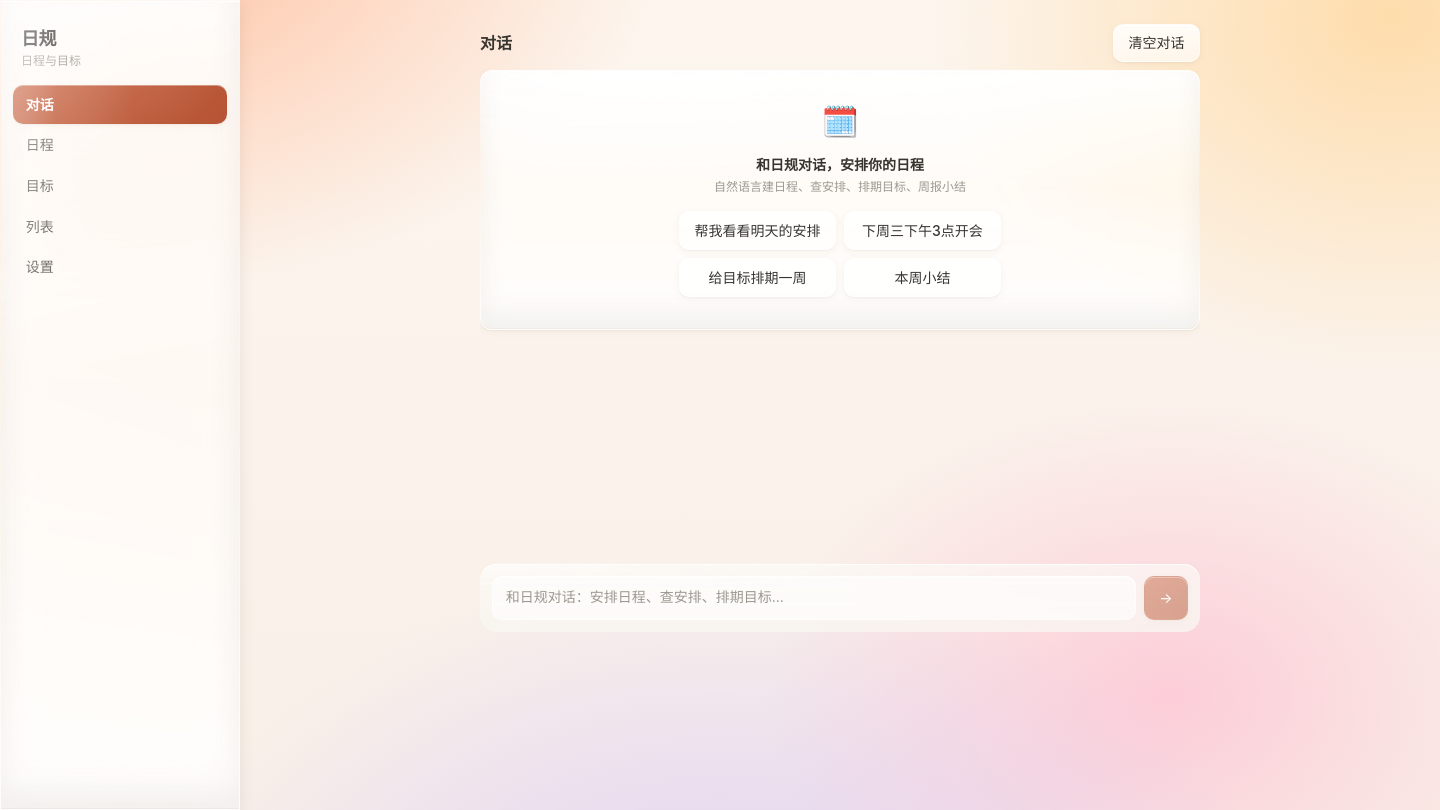
Scenario: App shell › 点击设置导航到设置页
Click the link "设置" at [40, 267], box [26,258,54,275]
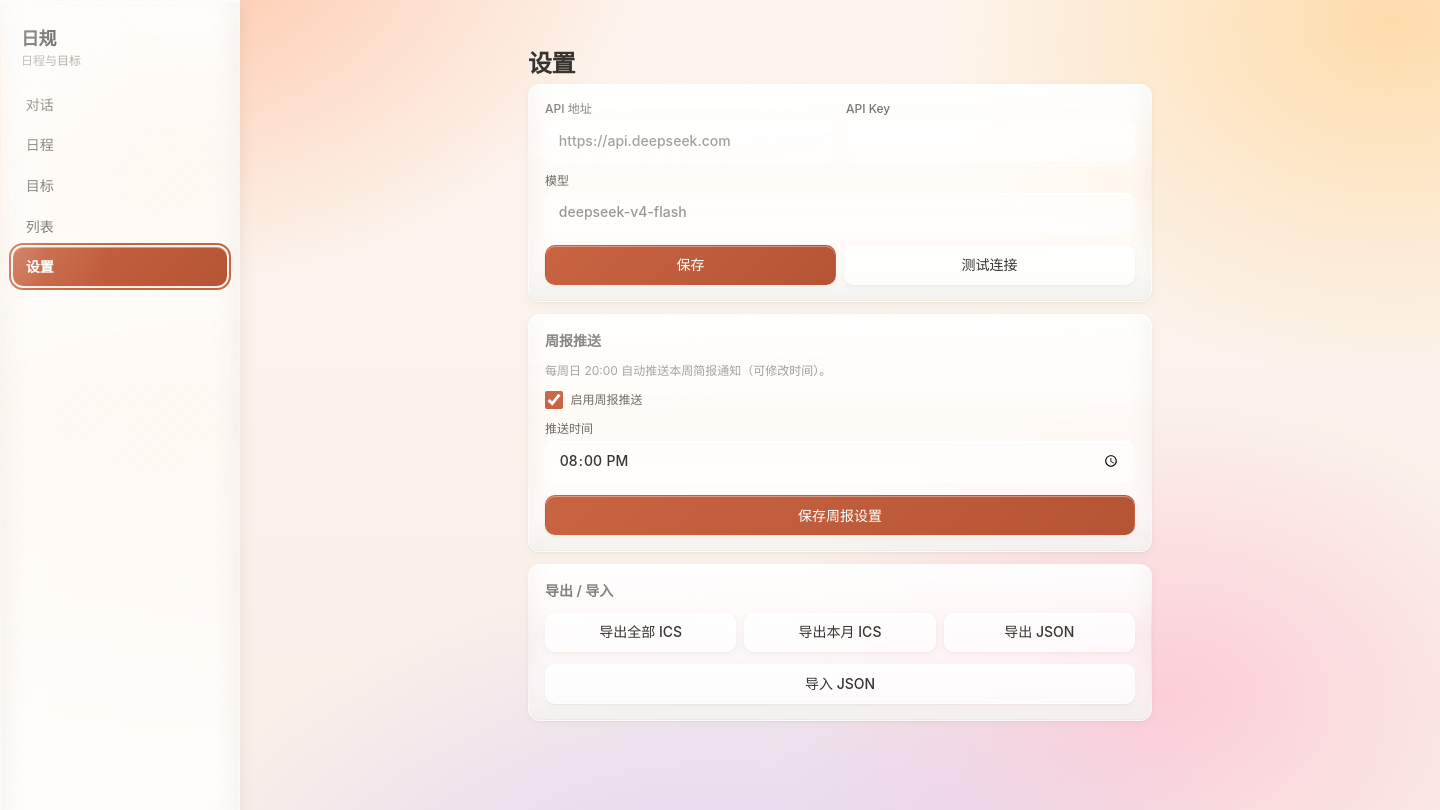
Now the element with test id "settings-view" is shown, box [504,24,1176,745]
